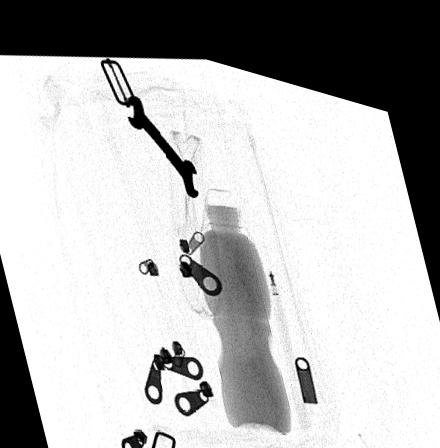Wrench: (122, 86, 201, 186)
